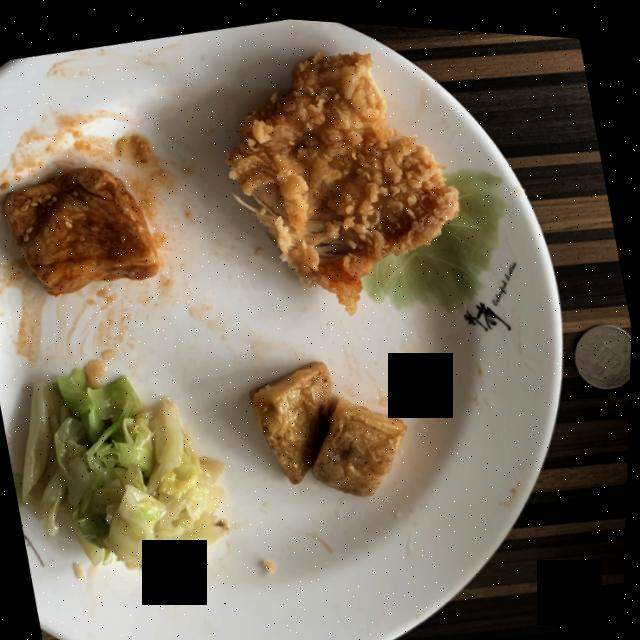cabbage: (14, 367, 230, 574)
coin: (575, 315, 633, 380)
creamy tofu: (4, 166, 159, 294)
fried chicken cutlet: (226, 47, 459, 308)
fried potato: (251, 357, 408, 491)
